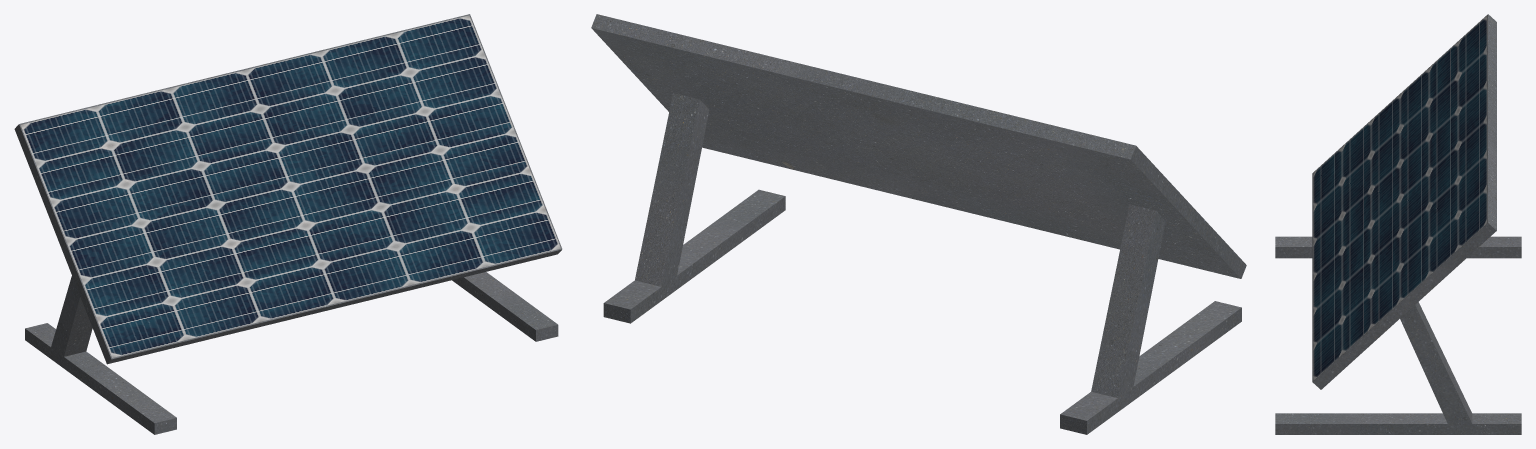
File: Solar_Panel.gltf
The picture shows the model from 3 angles, left to right: view 1: azimuth 30°, elevation 25°; view 2: azimuth 150°, elevation 25°; view 3: azimuth 270°, elevation 25°; orthographic projection. The views are drawn at different scales.
Visible parts, largest first — view 1: Solar_Pan_01; view 2: Solar_Pan_01; view 3: Solar_Pan_01.
Part boxes in pixels (x1=…): Solar_Pan_01: x1=14, y1=14, x2=562, y2=434; Solar_Pan_01: x1=591, y1=14, x2=1246, y2=434; Solar_Pan_01: x1=1275, y1=14, x2=1521, y2=434.
Size of the model in its own units: 4.02 by 2 by 2.
